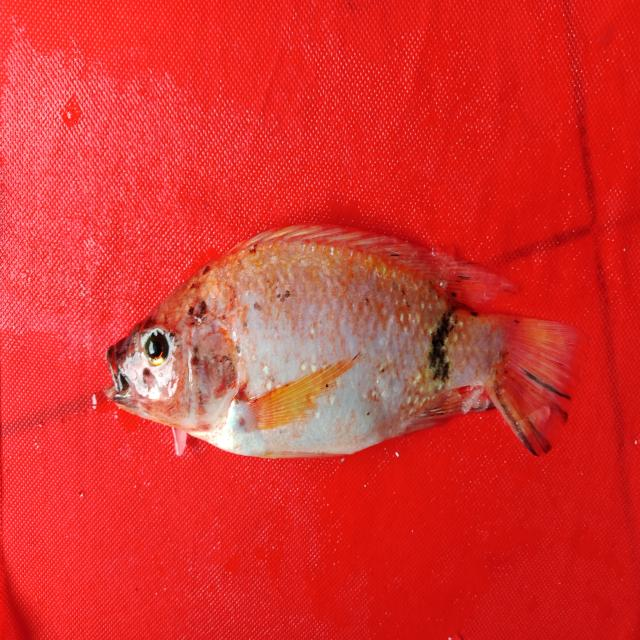ikan: (102, 221, 581, 462)
